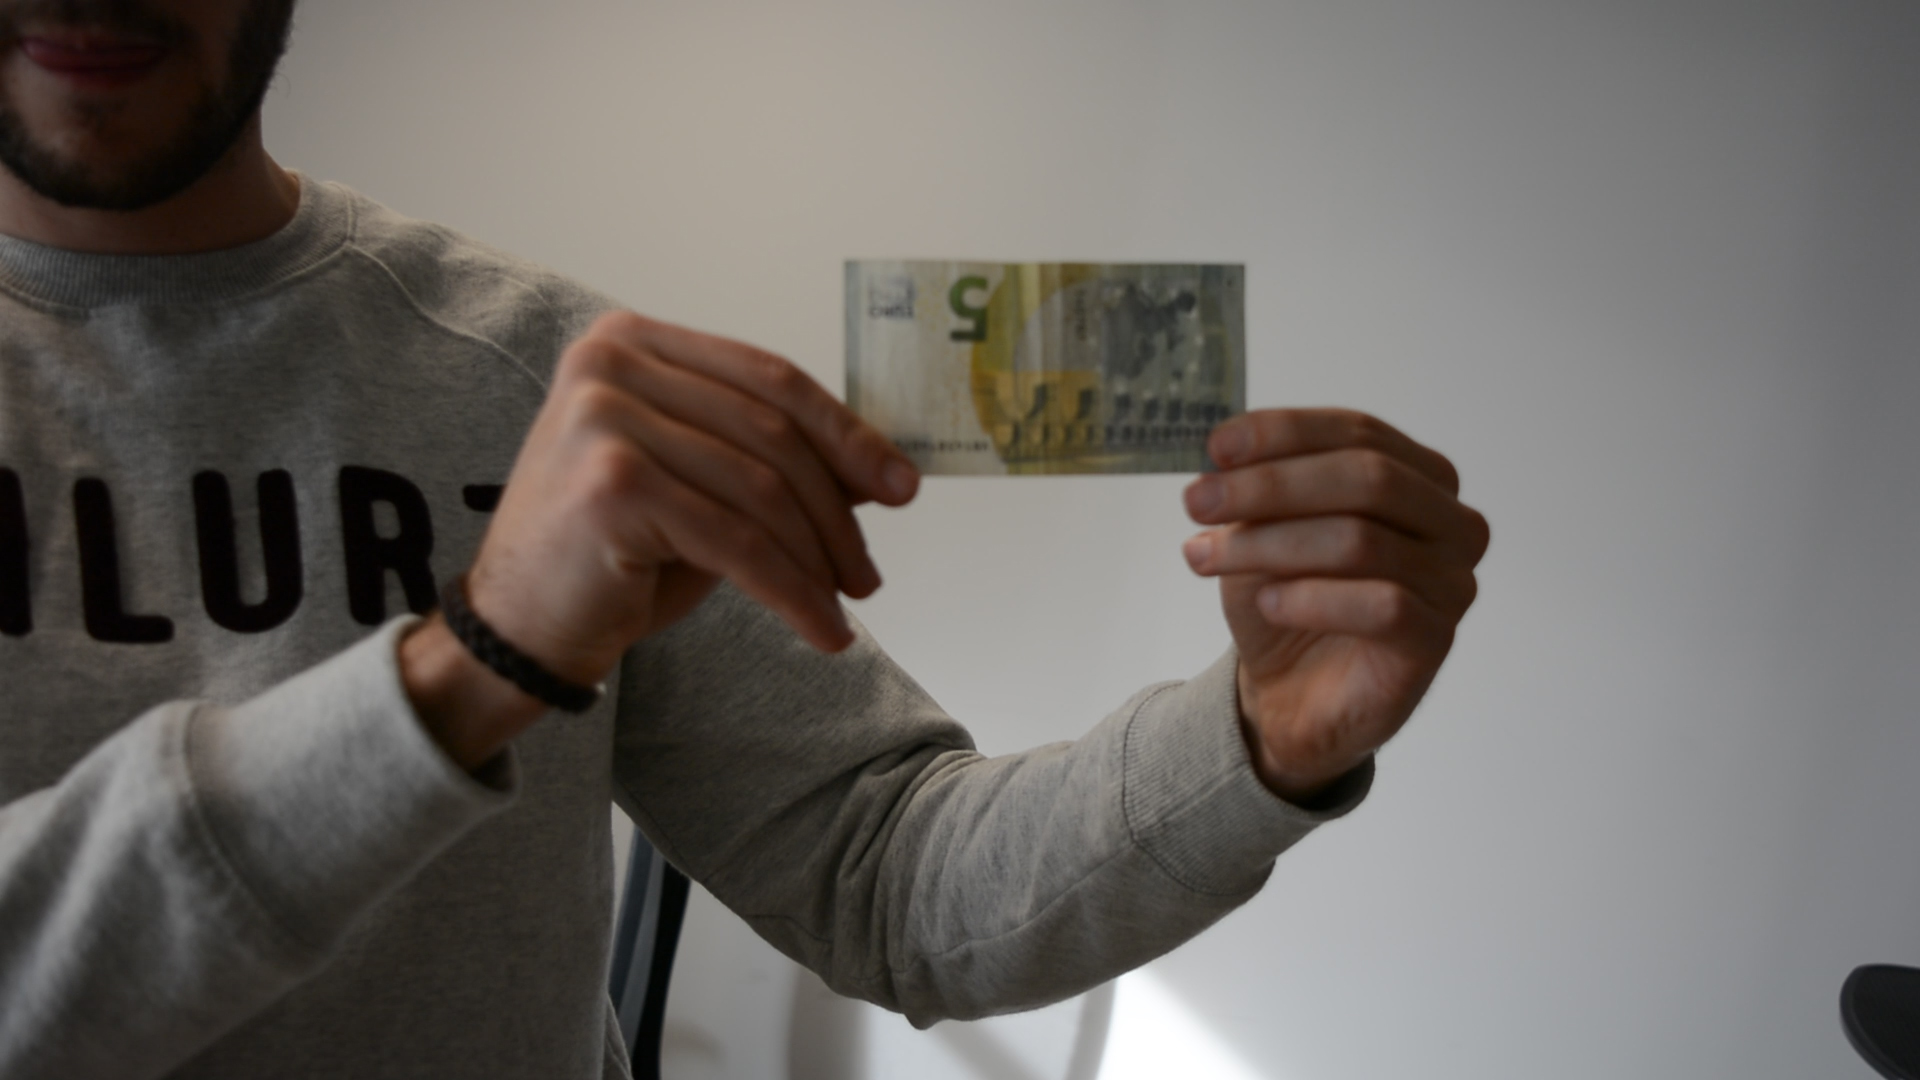billete: (843, 257, 1250, 479)
